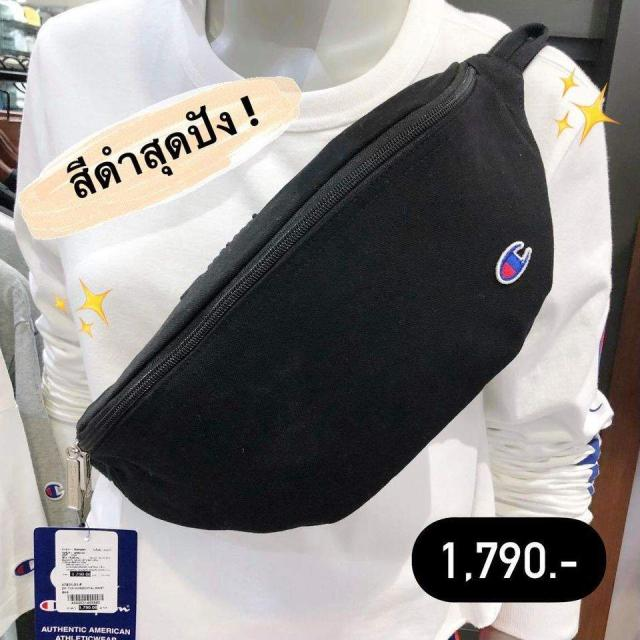handbag: (61, 21, 556, 534)
